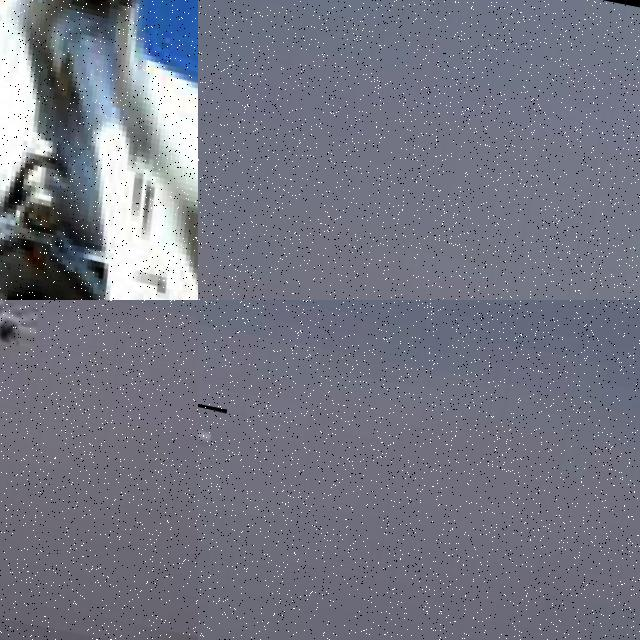drone: (0, 0, 198, 300), (0, 300, 74, 360), (198, 391, 227, 473)
